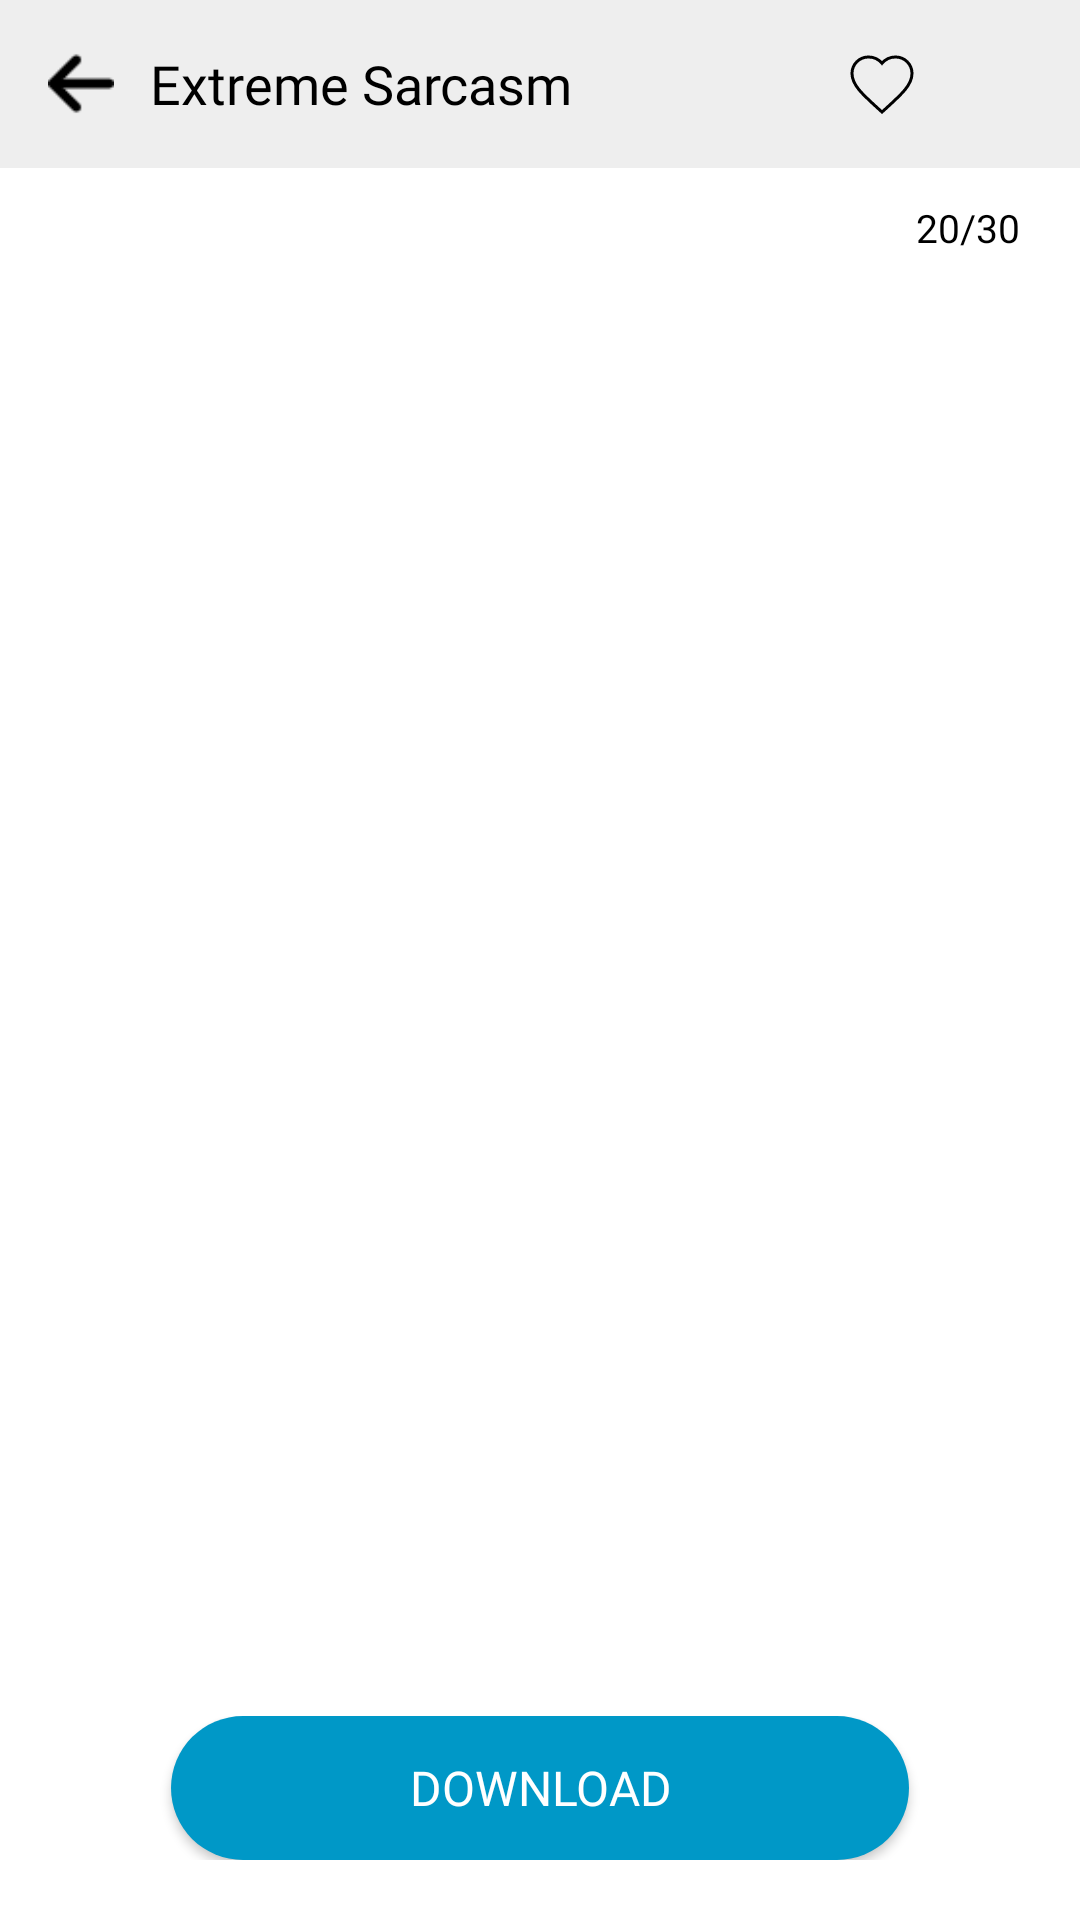

Icons on this 1080px×1920px Android screen, each with its box as bbox=[x1, y1, x2, y2]:
arrows: bbox=[48, 54, 114, 113]
